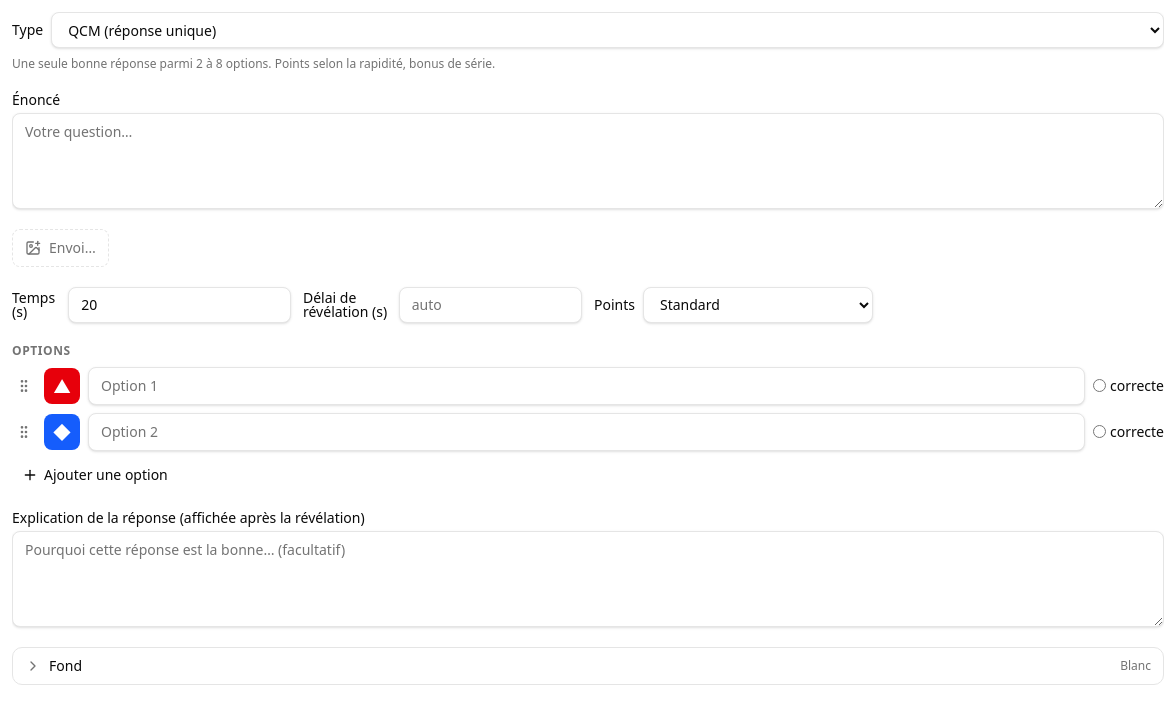
Test: QuestionForm › bascule les champs selon le type (texte → réponses acceptées)
Select "Saisie texte" in the dropdown labelled "Type": (608, 30) [51, 12, 1164, 48]
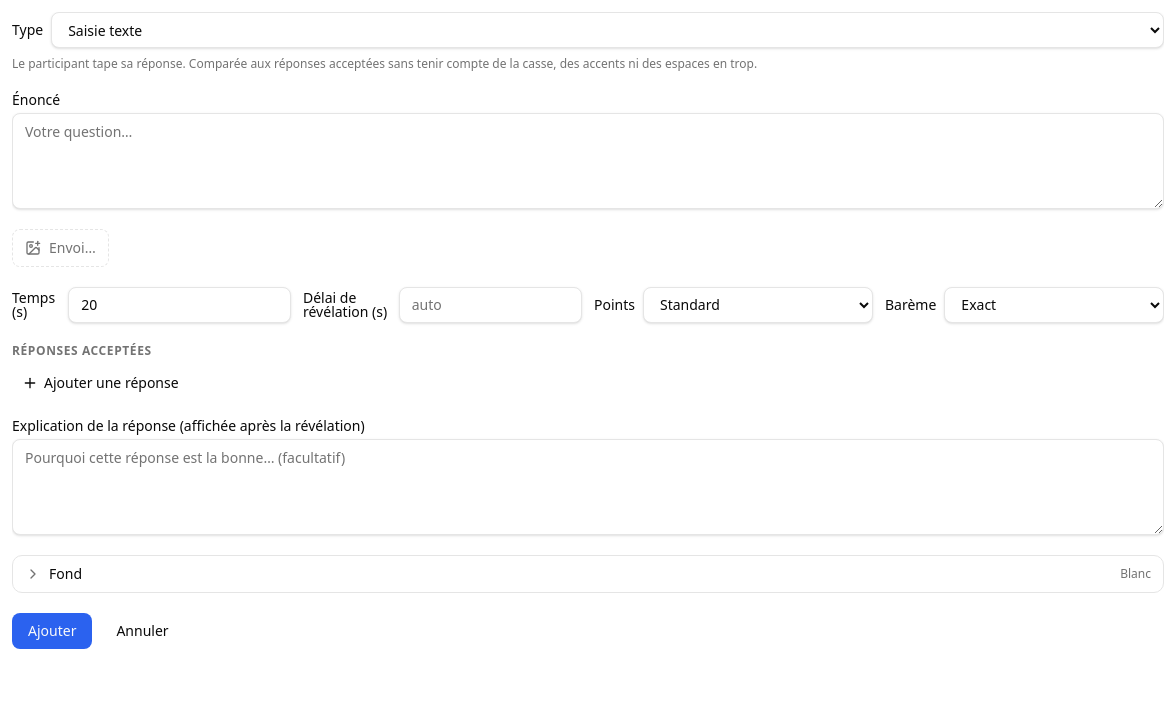
Expected: the text "Réponses acceptées" is shown, [12, 342, 152, 358]
Expected: the text "options" is gone
